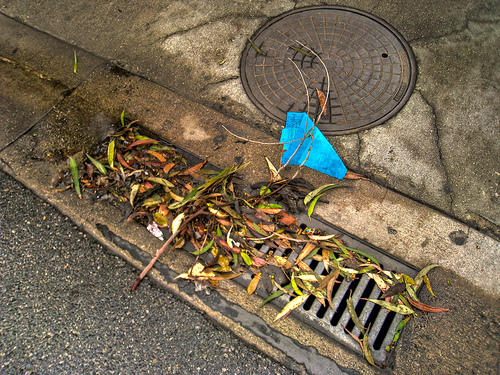litter: (281, 111, 347, 180)
